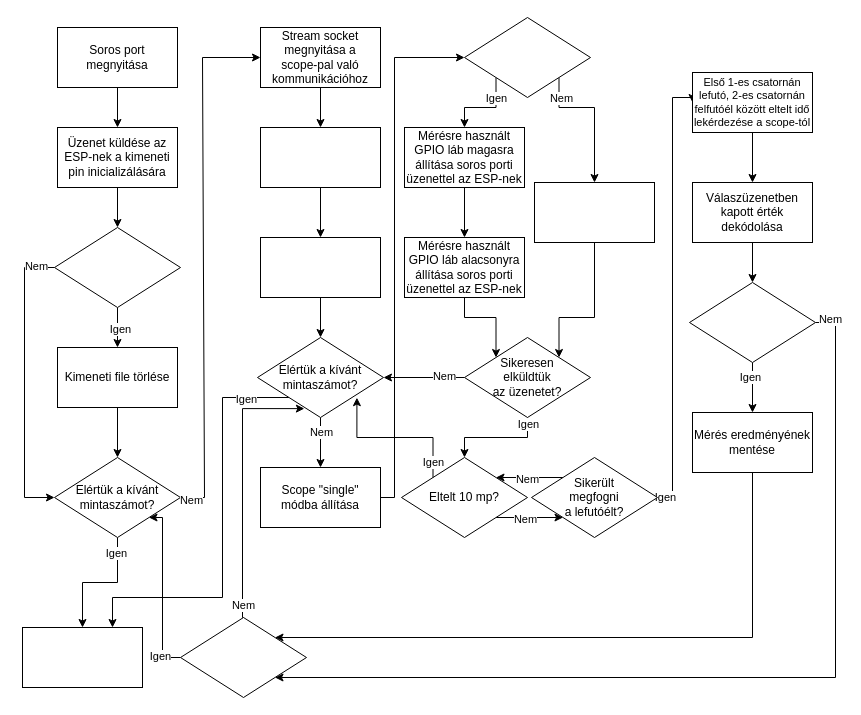
The diagram is 861 pixels wide and 715 high, and some of its shapes have lost their labels. Each missing label, with the box of its shape:
0x01 soros porti üzenetként való elküldése: (534, 182, 654, 242)
GPIO mérést végzünk?: (464, 16, 590, 98)
Kaptunk kivételt a mérés során?: (180, 616, 306, 698)
Kimeneti file megnyitása hozzáfűzés módban: (260, 126, 380, 188)
Létezik már a kimeneti file?: (54, 226, 180, 308)
Mérés leállítása: (22, 626, 142, 688)
Scope inicializálása: (260, 236, 380, 298)
Sikerült értelmezhető értéket begyűjteni a mérésre?: (688, 282, 816, 362)
